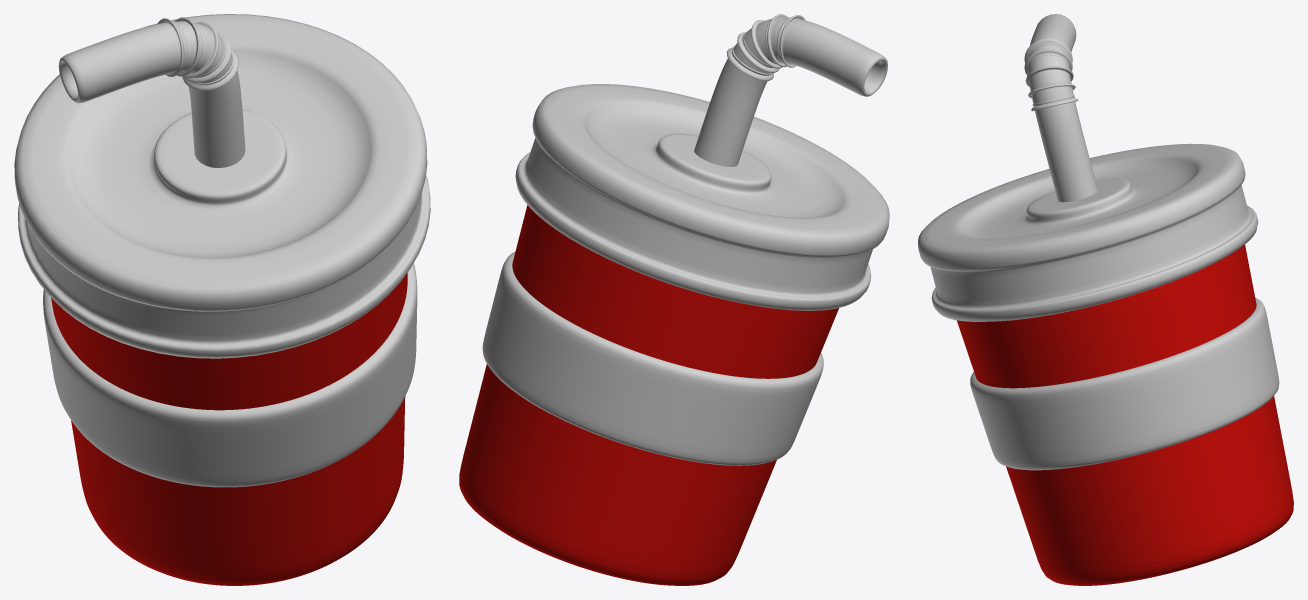
The model's file is Soft Drink.obj.
The picture shows the model from 3 angles, left to right: view 1: azimuth 30°, elevation 25°; view 2: azimuth 150°, elevation 25°; view 3: azimuth 270°, elevation 25°; orthographic projection. The views are drawn at different scales.
Visible parts, largest first — view 1: Cylinder.045_Cylinder.139, Cylinder.044_Cylinder.140, Cylinder.046_Cylinder.138, NurbsPath.008_NurbsPath.013; view 2: Cylinder.044_Cylinder.140, Cylinder.045_Cylinder.139, Cylinder.046_Cylinder.138, NurbsPath.008_NurbsPath.013; view 3: Cylinder.044_Cylinder.140, Cylinder.045_Cylinder.139, Cylinder.046_Cylinder.138, NurbsPath.008_NurbsPath.013.
Part boxes in pixels (box(x1,y1,x2,y2)): Cylinder.045_Cylinder.139: box(14, 14, 430, 358); Cylinder.044_Cylinder.140: box(51, 273, 407, 585); Cylinder.046_Cylinder.138: box(43, 263, 417, 487); NurbsPath.008_NurbsPath.013: box(58, 17, 245, 167); Cylinder.044_Cylinder.140: box(459, 205, 838, 585); Cylinder.045_Cylinder.139: box(515, 84, 889, 310); Cylinder.046_Cylinder.138: box(482, 251, 823, 465); NurbsPath.008_NurbsPath.013: box(694, 14, 887, 166); Cylinder.044_Cylinder.140: box(957, 245, 1293, 585); Cylinder.045_Cylinder.139: box(918, 143, 1258, 321); Cylinder.046_Cylinder.138: box(970, 297, 1279, 470); NurbsPath.008_NurbsPath.013: box(1024, 14, 1097, 202).
Bounding box in the file's own units: 5.79 × 8.53 × 6.
